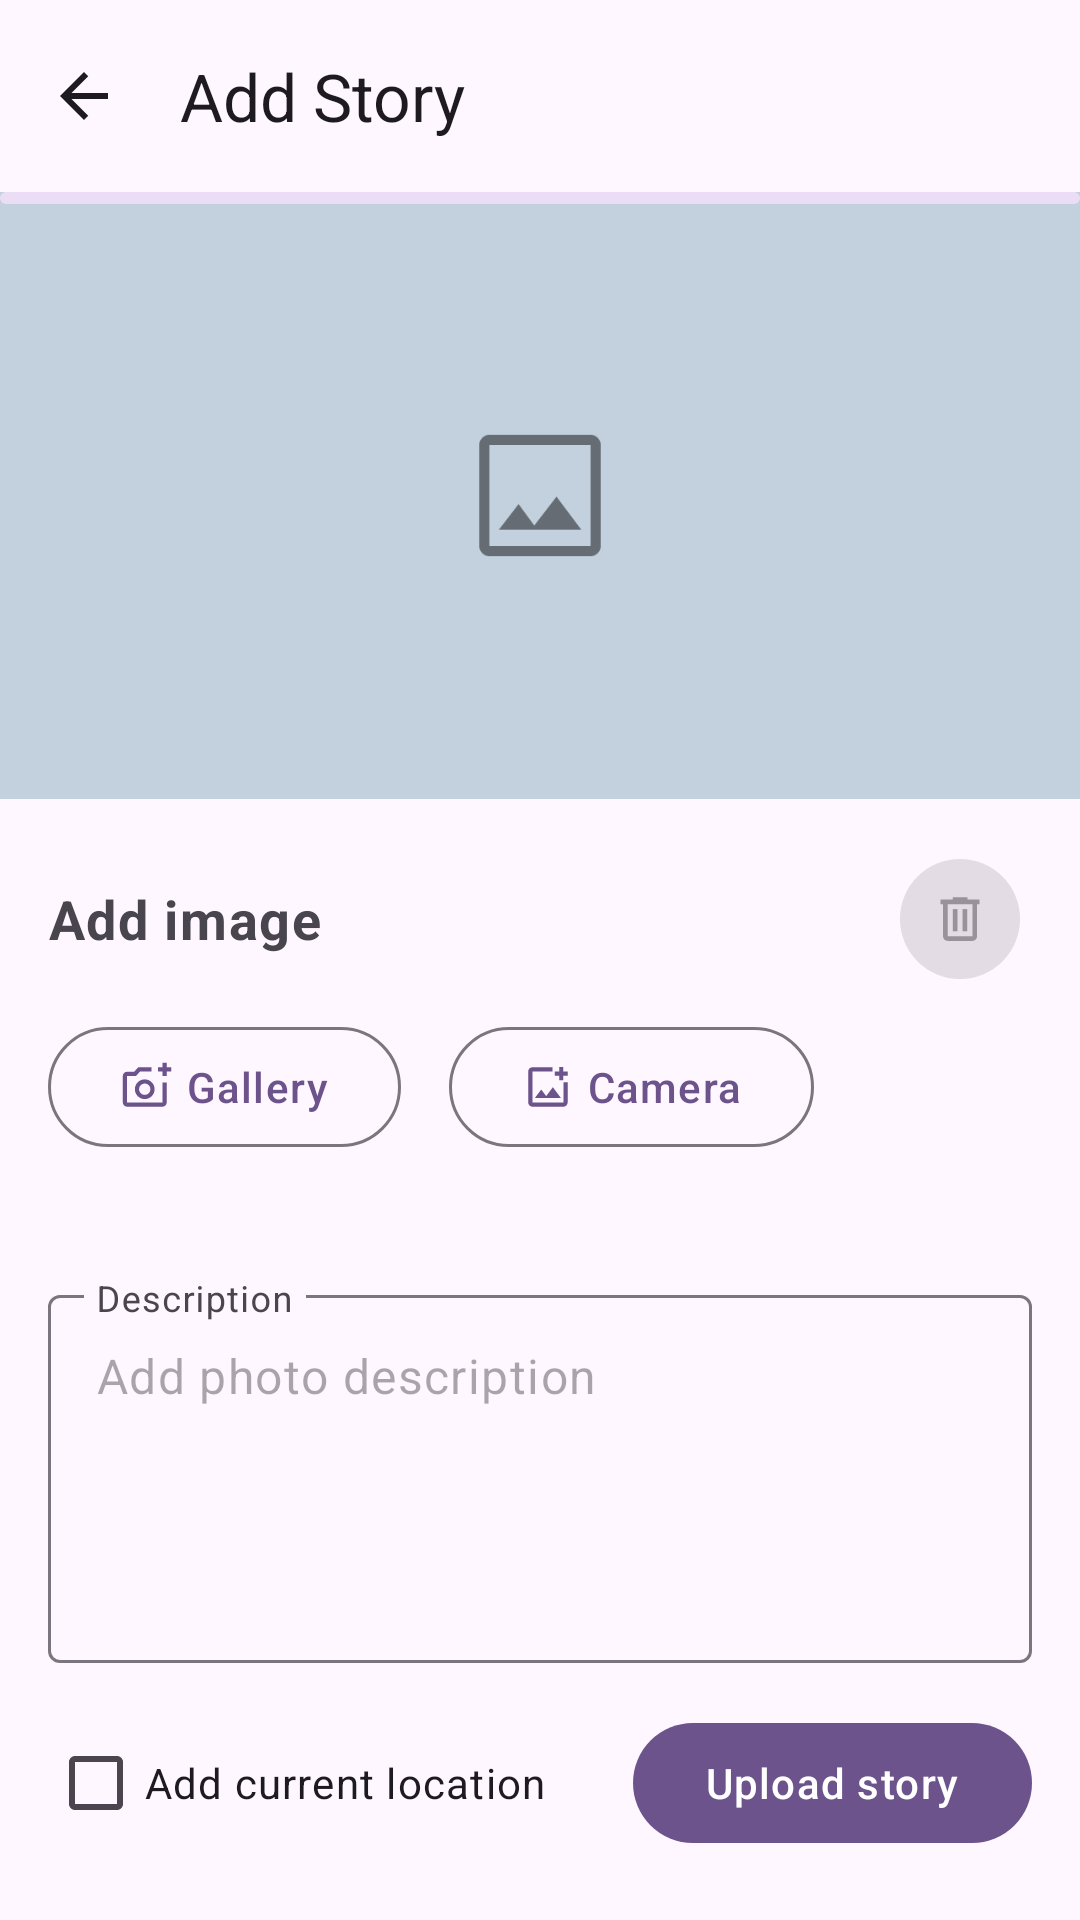

Named icons in this screenshot (1080 x 1920) and their bounding boxes, (x1, y1, x2, y2):
Delete image: (900, 859, 1020, 979)
